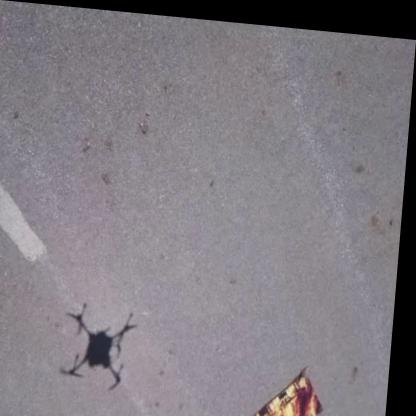fire-poster: (254, 354, 333, 416)
